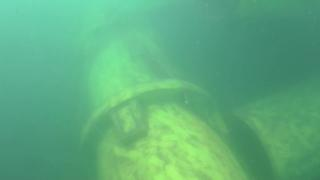pipe: (77, 5, 253, 180), (210, 73, 320, 180), (225, 1, 320, 21)
